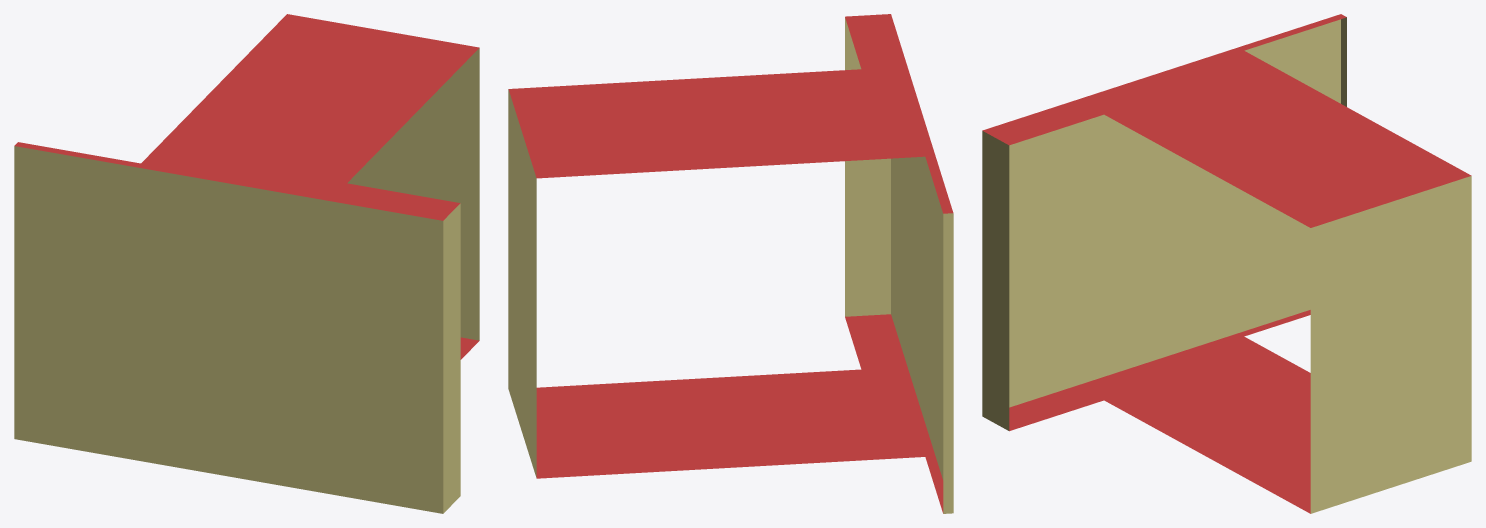
The picture shows the model from 3 angles, left to right: view 1: azimuth 30°, elevation 25°; view 2: azimuth 150°, elevation 25°; view 3: azimuth 270°, elevation 25°; orthographic projection. The views are drawn at different scales.
Size of the model in its own units: 8.59 by 8.3 by 5.35.
